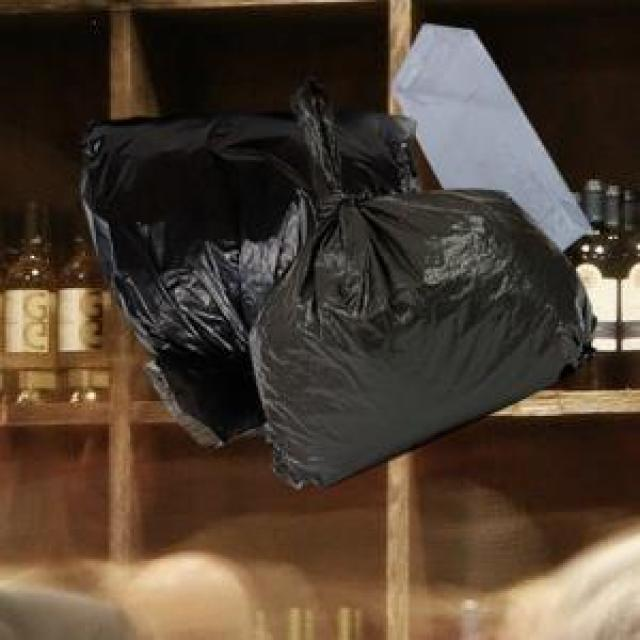miscellaneous trash: (245, 73, 593, 484), (79, 109, 416, 484)
